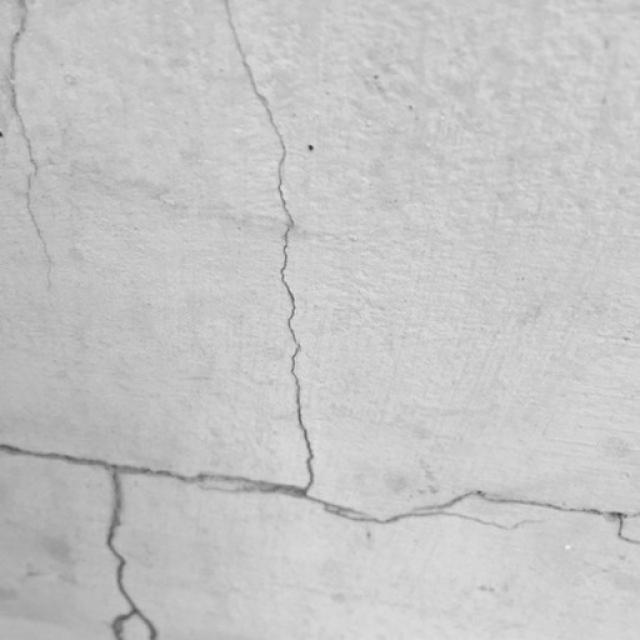SurfaceCrack: (181, 0, 344, 600), (271, 432, 640, 618)
